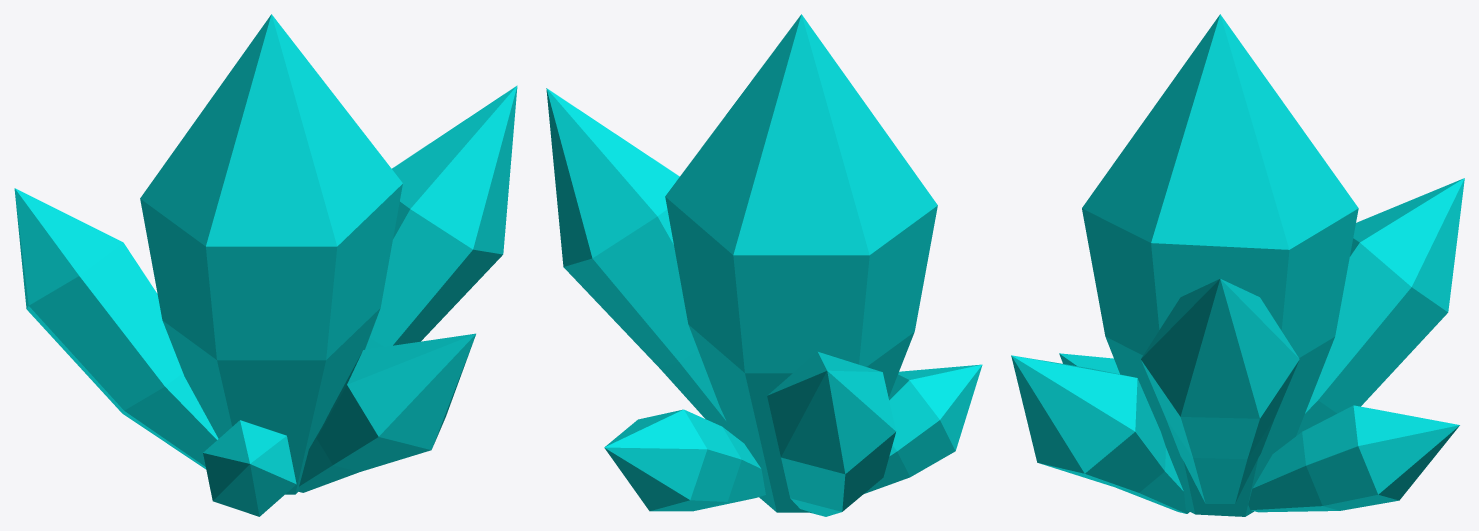
The model's file is Crystal.obj.
3 renders of one model, left to right at view 1: azimuth 30°, elevation 25°; view 2: azimuth 150°, elevation 25°; view 3: azimuth 270°, elevation 25°, orthographic. The views are drawn at different scales.
Parts seen in each view (by area): view 1: Crystal; view 2: Crystal; view 3: Crystal.
Boxes of the visible parts, left/top/right/bottom form: Crystal: left=14, top=14, right=517, bottom=516; Crystal: left=546, top=14, right=982, bottom=516; Crystal: left=1011, top=14, right=1464, bottom=516.
Bounding box in the file's own units: 1.9 × 2.06 × 1.72.
